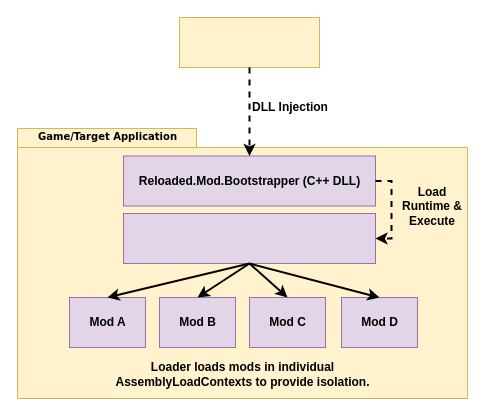
Some shapes in this 491 by 416 pixel diagram are drawn without their labels. Each missing label, with the box of its shape:
Reloaded-II GUI (WPF): (178, 16, 320, 68)
Reloaded.Mod.Loader (.NET Core DLL): (122, 212, 376, 264)
